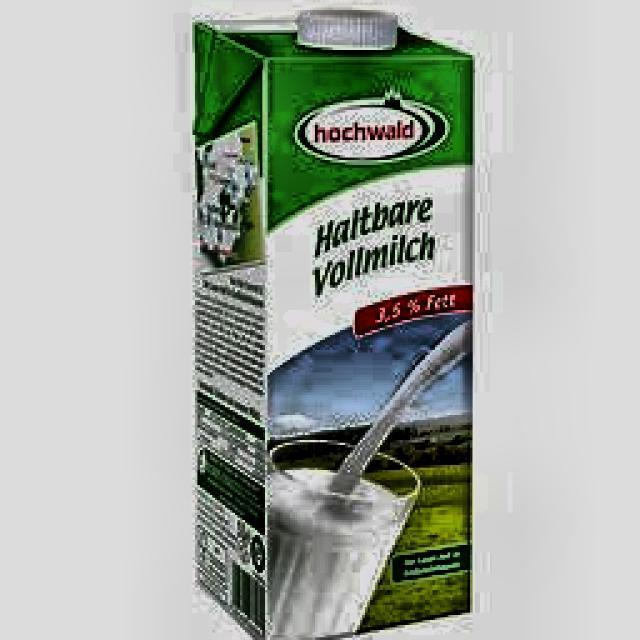cardboard: (190, 7, 475, 640)
